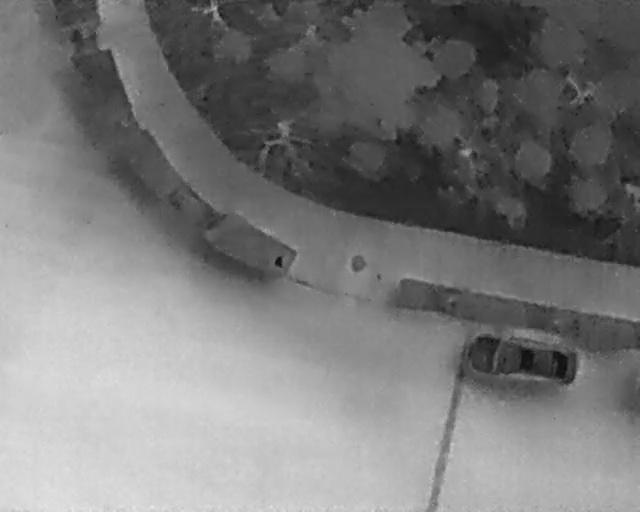Car: (462, 329, 582, 391)
